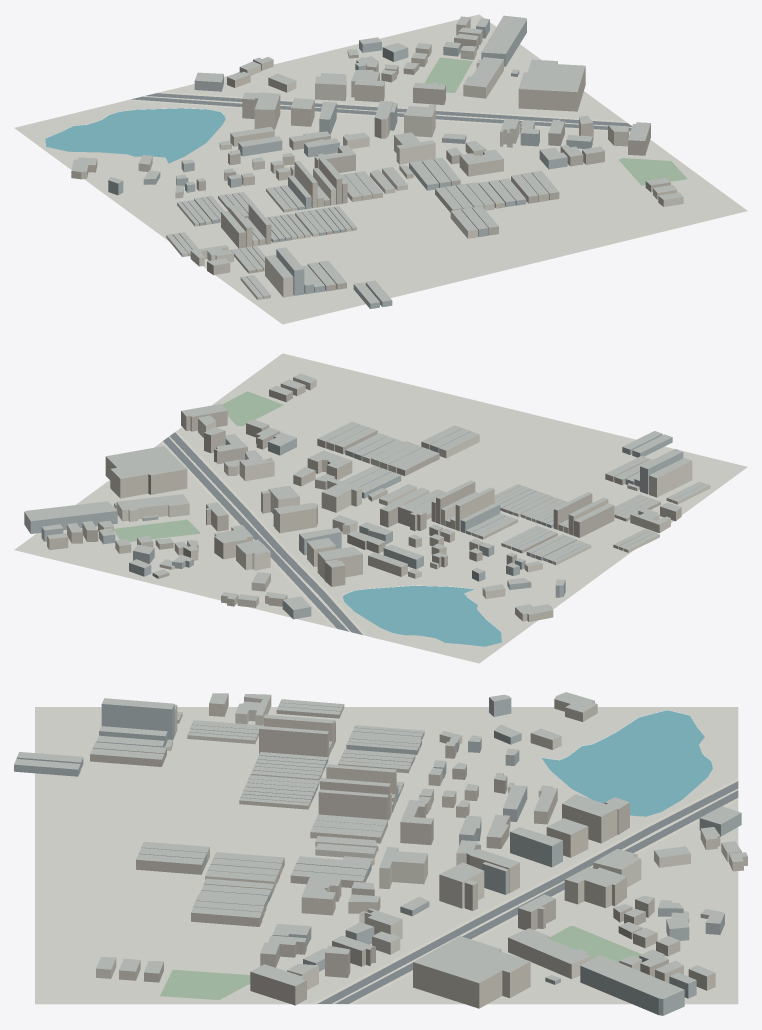
3 views of the same model, one above another, from view 1: azimuth 30°, elevation 25°; view 2: azimuth 150°, elevation 25°; view 3: azimuth 270°, elevation 25° (orthographic). The views are drawn at different scales.
Visible parts, largest first — view 1: city; view 2: city; view 3: city.
Boxes of the visible parts, x1,y1,x2,y2 form: city: (14,14,747,324); city: (14,353,747,663); city: (14,692,747,1015).
Size of the model in its own units: 529 by 26.18 by 522.
